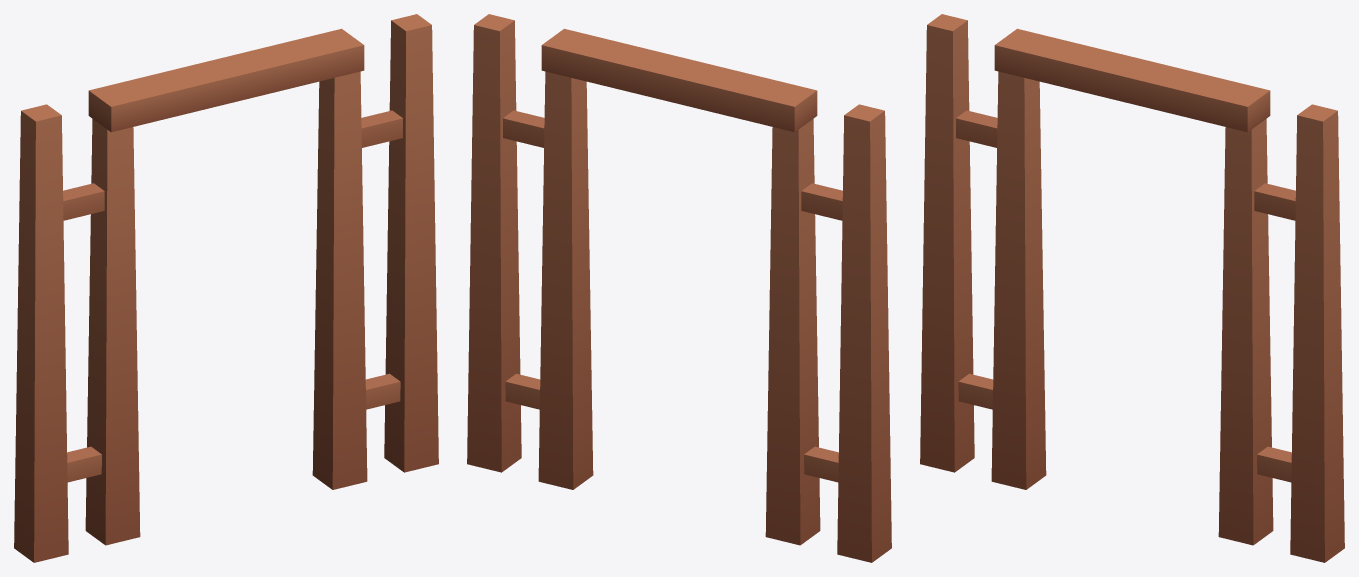
File: fence-doorway.glb
3 views of the same model, side by side, from view 1: azimuth 30°, elevation 25°; view 2: azimuth 150°, elevation 25°; view 3: azimuth 330°, elevation 25° (orthographic).
Parts seen in each view (by area): view 1: fence-doorway, Group; view 2: fence-doorway, Group; view 3: fence-doorway, Group.
Boxes of the visible parts, left/top/right/bottom form: fence-doorway: left=14, top=14, right=438, bottom=562; Group: left=88, top=28, right=364, bottom=132; fence-doorway: left=467, top=14, right=891, bottom=562; Group: left=541, top=28, right=817, bottom=132; fence-doorway: left=920, top=14, right=1344, bottom=562; Group: left=994, top=28, right=1270, bottom=132.
Size of the model in its own units: 0.5 by 0.5175 by 0.0481.
